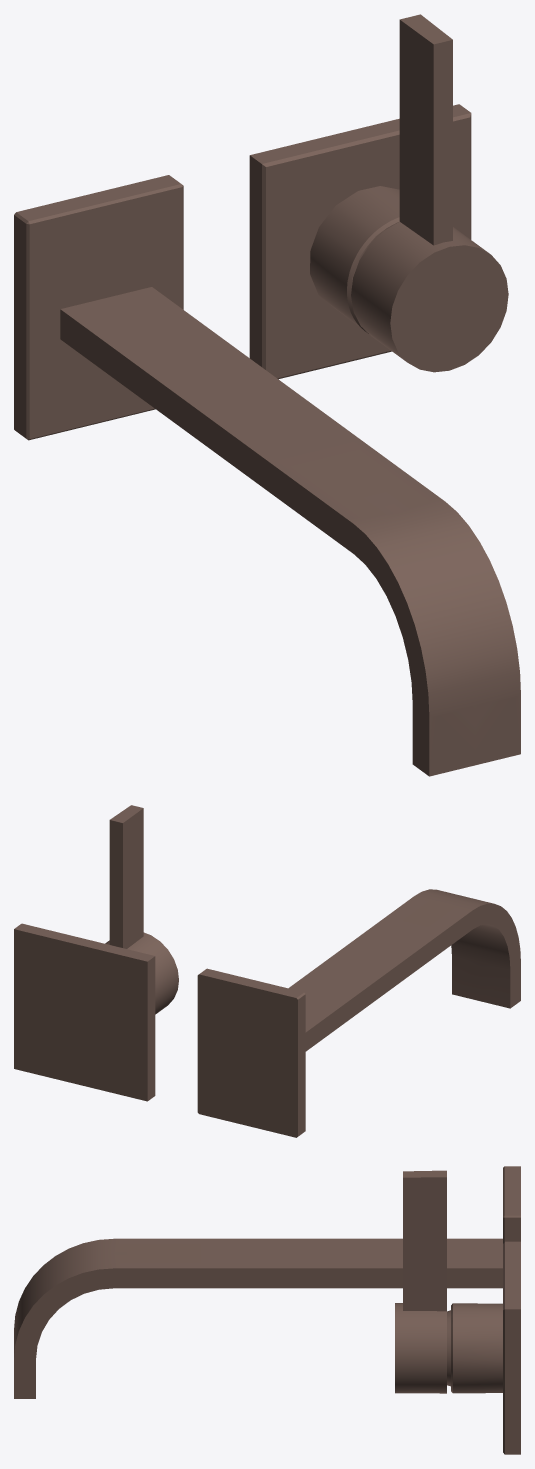
The picture shows the model from 3 angles, top to bottom: view 1: azimuth 30°, elevation 25°; view 2: azimuth 150°, elevation 25°; view 3: azimuth 270°, elevation 25°; orthographic projection. The views are drawn at different scales.
Visible parts, largest first — view 1: L_2fb3c6e9_f868_4413_804a_240b01cf678e_I1, L_83139d79_5680_4b25_82d1_a0d3b13563ea_I4, L_87dd128f_5c56_45fa_b6a2_b5eb3a623097_I5, L_69197ffe_2e51_496f_b5b4_f06a22d34d2e_I3, L_977f5cb4_1099_4a2d_bd25_fe8b2b1c9b11_I6; view 2: L_69197ffe_2e51_496f_b5b4_f06a22d34d2e_I3, L_2fb3c6e9_f868_4413_804a_240b01cf678e_I1, L_83139d79_5680_4b25_82d1_a0d3b13563ea_I4, L_87dd128f_5c56_45fa_b6a2_b5eb3a623097_I5; view 3: L_2fb3c6e9_f868_4413_804a_240b01cf678e_I1, L_87dd128f_5c56_45fa_b6a2_b5eb3a623097_I5, L_977f5cb4_1099_4a2d_bd25_fe8b2b1c9b11_I6, L_69197ffe_2e51_496f_b5b4_f06a22d34d2e_I3, L_83139d79_5680_4b25_82d1_a0d3b13563ea_I4.
Boxes of the visible parts, box(x1,y1,x2,y2) form: L_2fb3c6e9_f868_4413_804a_240b01cf678e_I1: box(60, 287, 520, 776); L_83139d79_5680_4b25_82d1_a0d3b13563ea_I4: box(14, 175, 183, 440); L_87dd128f_5c56_45fa_b6a2_b5eb3a623097_I5: box(351, 14, 508, 372); L_69197ffe_2e51_496f_b5b4_f06a22d34d2e_I3: box(249, 104, 471, 379); L_977f5cb4_1099_4a2d_bd25_fe8b2b1c9b11_I6: box(310, 186, 399, 333); L_69197ffe_2e51_496f_b5b4_f06a22d34d2e_I3: box(14, 923, 155, 1101); L_2fb3c6e9_f868_4413_804a_240b01cf678e_I1: box(288, 889, 520, 1051); L_83139d79_5680_4b25_82d1_a0d3b13563ea_I4: box(197, 968, 305, 1137); L_87dd128f_5c56_45fa_b6a2_b5eb3a623097_I5: box(105, 805, 178, 1014); L_2fb3c6e9_f868_4413_804a_240b01cf678e_I1: box(14, 1238, 502, 1398); L_87dd128f_5c56_45fa_b6a2_b5eb3a623097_I5: box(395, 1170, 446, 1393); L_977f5cb4_1099_4a2d_bd25_fe8b2b1c9b11_I6: box(451, 1303, 502, 1393); L_69197ffe_2e51_496f_b5b4_f06a22d34d2e_I3: box(503, 1241, 520, 1454); L_83139d79_5680_4b25_82d1_a0d3b13563ea_I4: box(503, 1166, 520, 1243).
Bounding box in the file's own units: 0.17 × 0.1625 × 0.2531.
